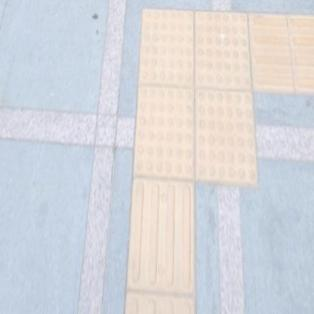Podoctatil: (110, 0, 281, 211), (124, 183, 201, 313), (258, 7, 314, 96)
